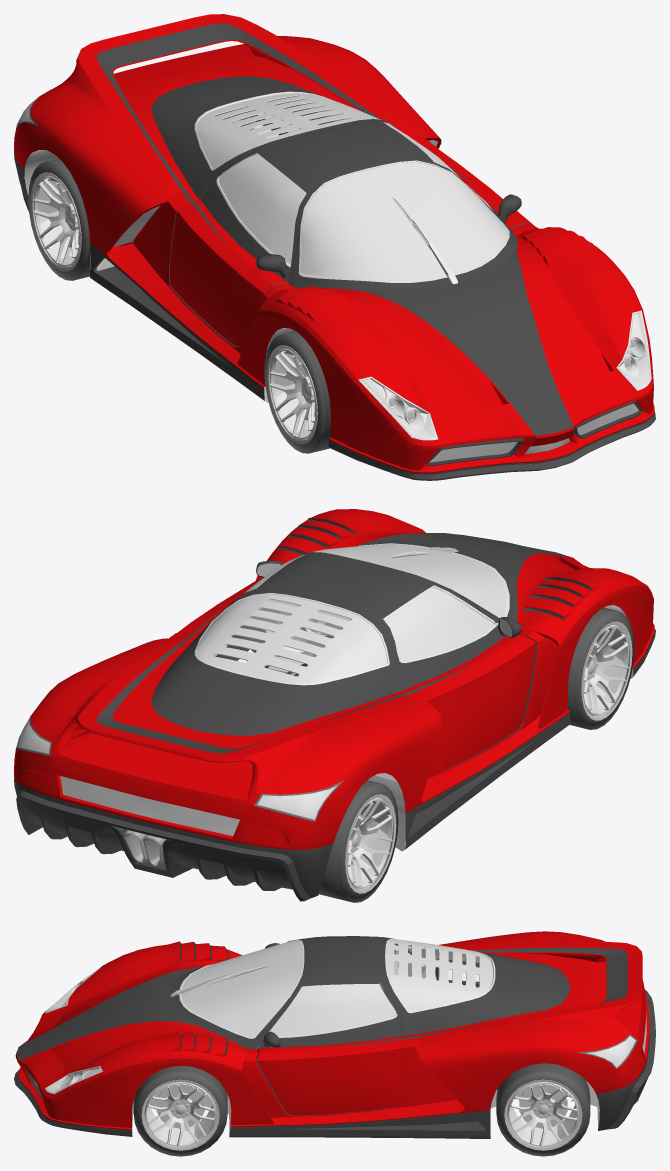
Rendered from Sports Coupe.fbx.
The picture shows the model from 3 angles, top to bottom: view 1: azimuth 30°, elevation 25°; view 2: azimuth 150°, elevation 25°; view 3: azimuth 270°, elevation 25°; orthographic projection. The views are drawn at different scales.
Parts seen in each view (by area): view 1: Body, Wheel FR, Wheel RR; view 2: Body, Wheel RR, Wheel FR; view 3: Body, Wheel RL, Wheel FL.
Part boxes in pixels (x1,y1,x2,y2): Body: (14, 14, 655, 480); Wheel FR: (264, 331, 330, 453); Wheel RR: (28, 158, 90, 280); Body: (14, 509, 655, 901); Wheel RR: (319, 780, 398, 902); Wheel FR: (568, 607, 634, 729); Body: (14, 931, 655, 1138); Wheel RL: (496, 1063, 590, 1156); Wheel FL: (133, 1065, 227, 1156).
Size of the model in its own units: 244 by 137 by 552.
